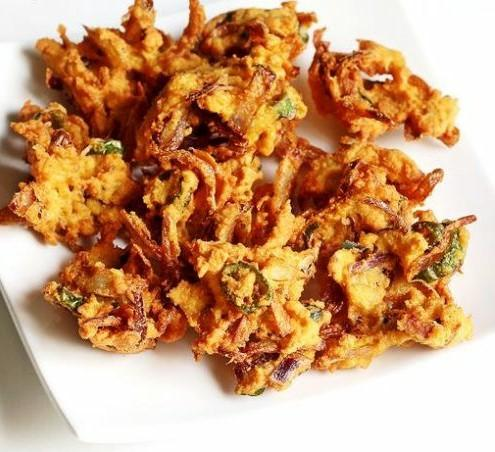OnionPakoda: (0, 0, 470, 397)
